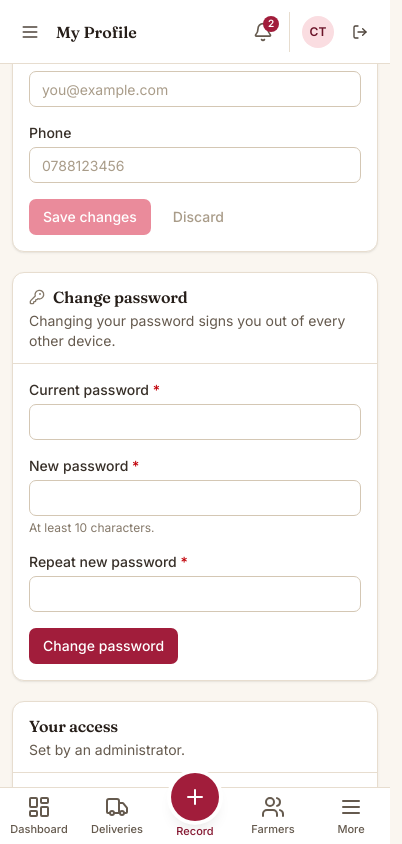
Test: my profile › validates a password change before sending it
(page scrolled)
Type "old-password-123" into the password field labelled "Current password *" at (195, 422), box [29,404,361,440]
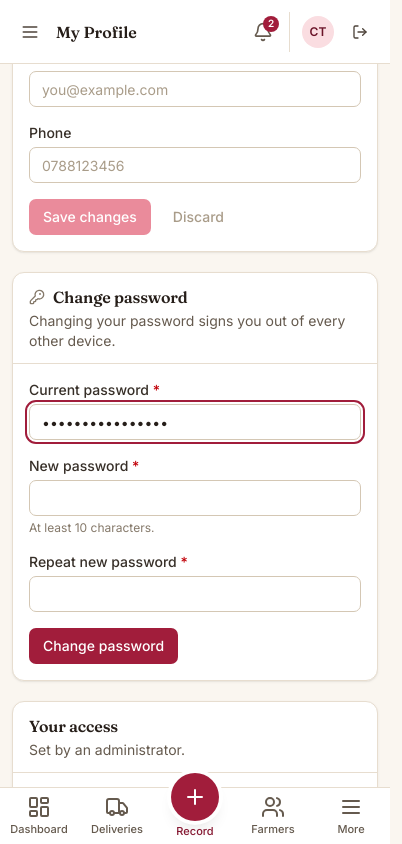
Type "short" into the password field labelled "New password *" at (195, 498), box [29,480,361,516]
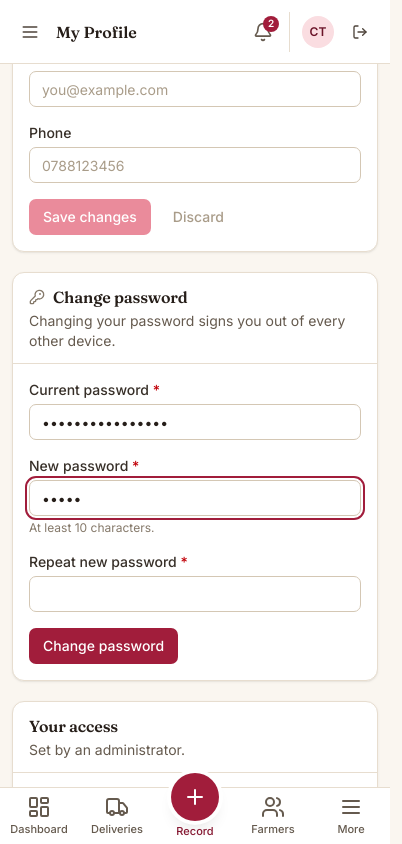
Type "different" into the password field labelled "Repeat new password *" at (195, 594), box [29,576,361,612]
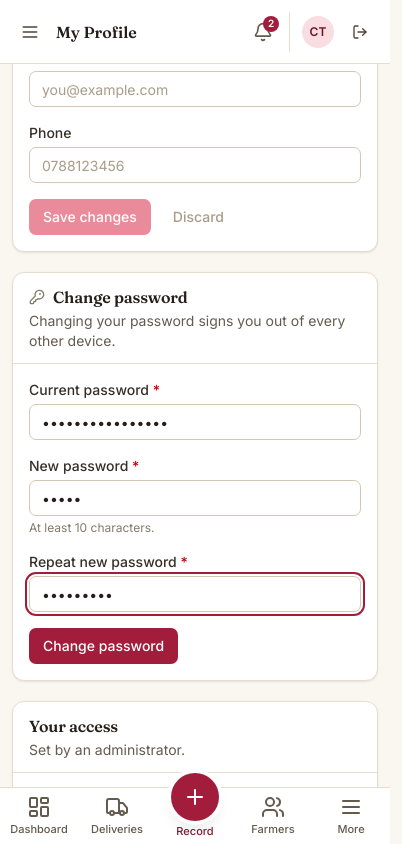
Click the button "Change password" at (104, 646), box [29,628,178,664]
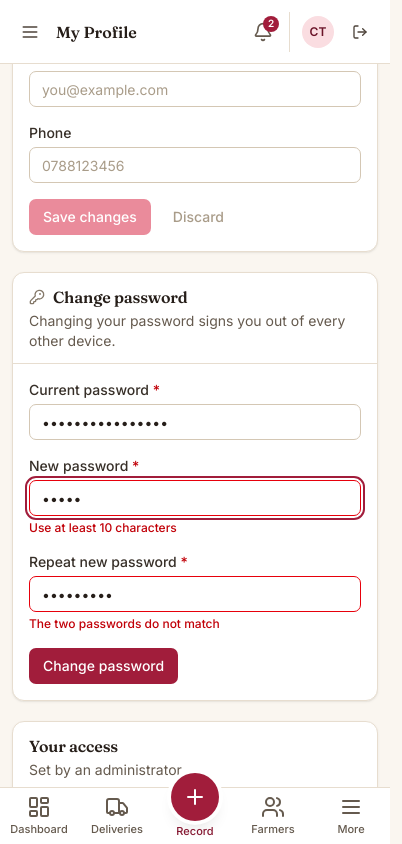
expect the text "Use at least 10 characters" is shown: met, box [29,520,177,535]
expect the text "The two passwords do not match" is shown: met, box [29,616,220,631]
